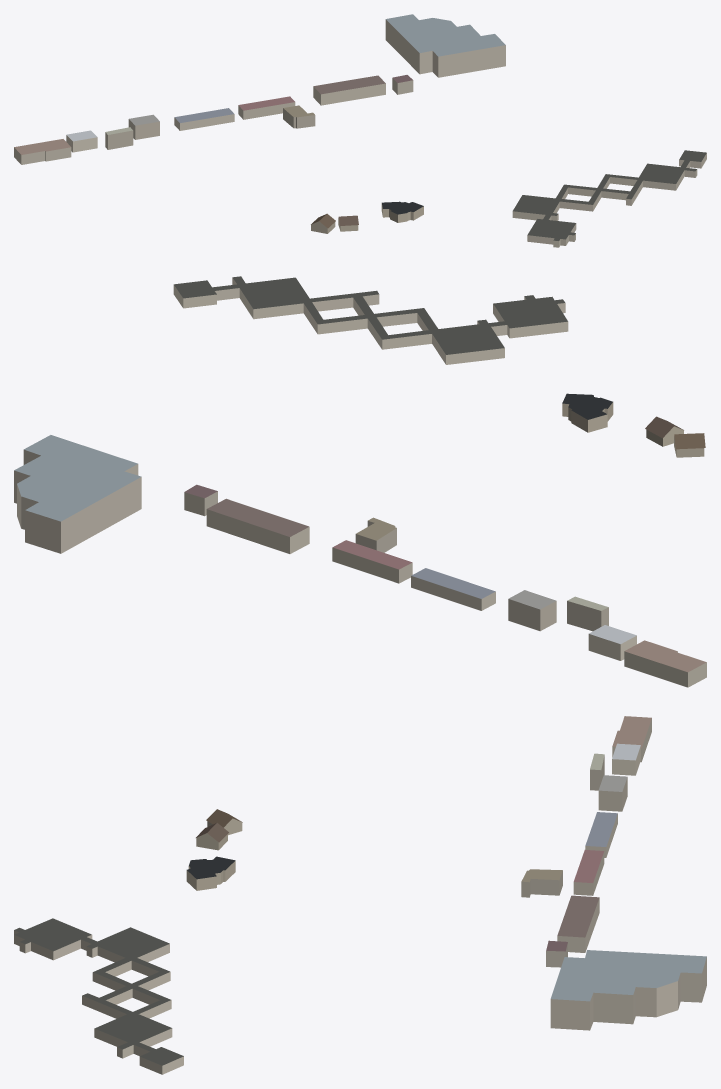
3 views of the same model, one above another, from view 1: azimuth 30°, elevation 25°; view 2: azimuth 150°, elevation 25°; view 3: azimuth 270°, elevation 25° (orthographic). The views are drawn at different scales.
Visible parts, largest first — view 1: tuile; view 2: tuile; view 3: tuile.
Boxes of the visible parts, x1,y1,x2,y2 form: tuile: (14, 14, 706, 247); tuile: (14, 276, 706, 687); tuile: (14, 716, 706, 1074).
Bounding box in the file's own units: 294 × 15.18 × 247.
